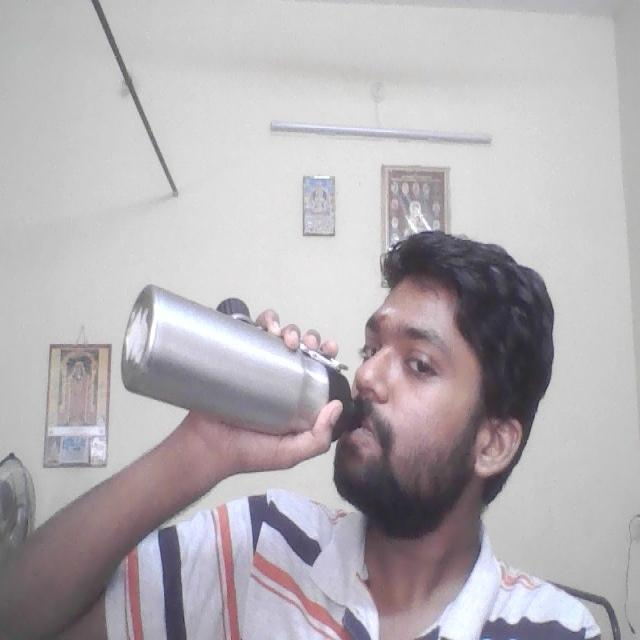Drinking: (110, 285, 350, 432)
